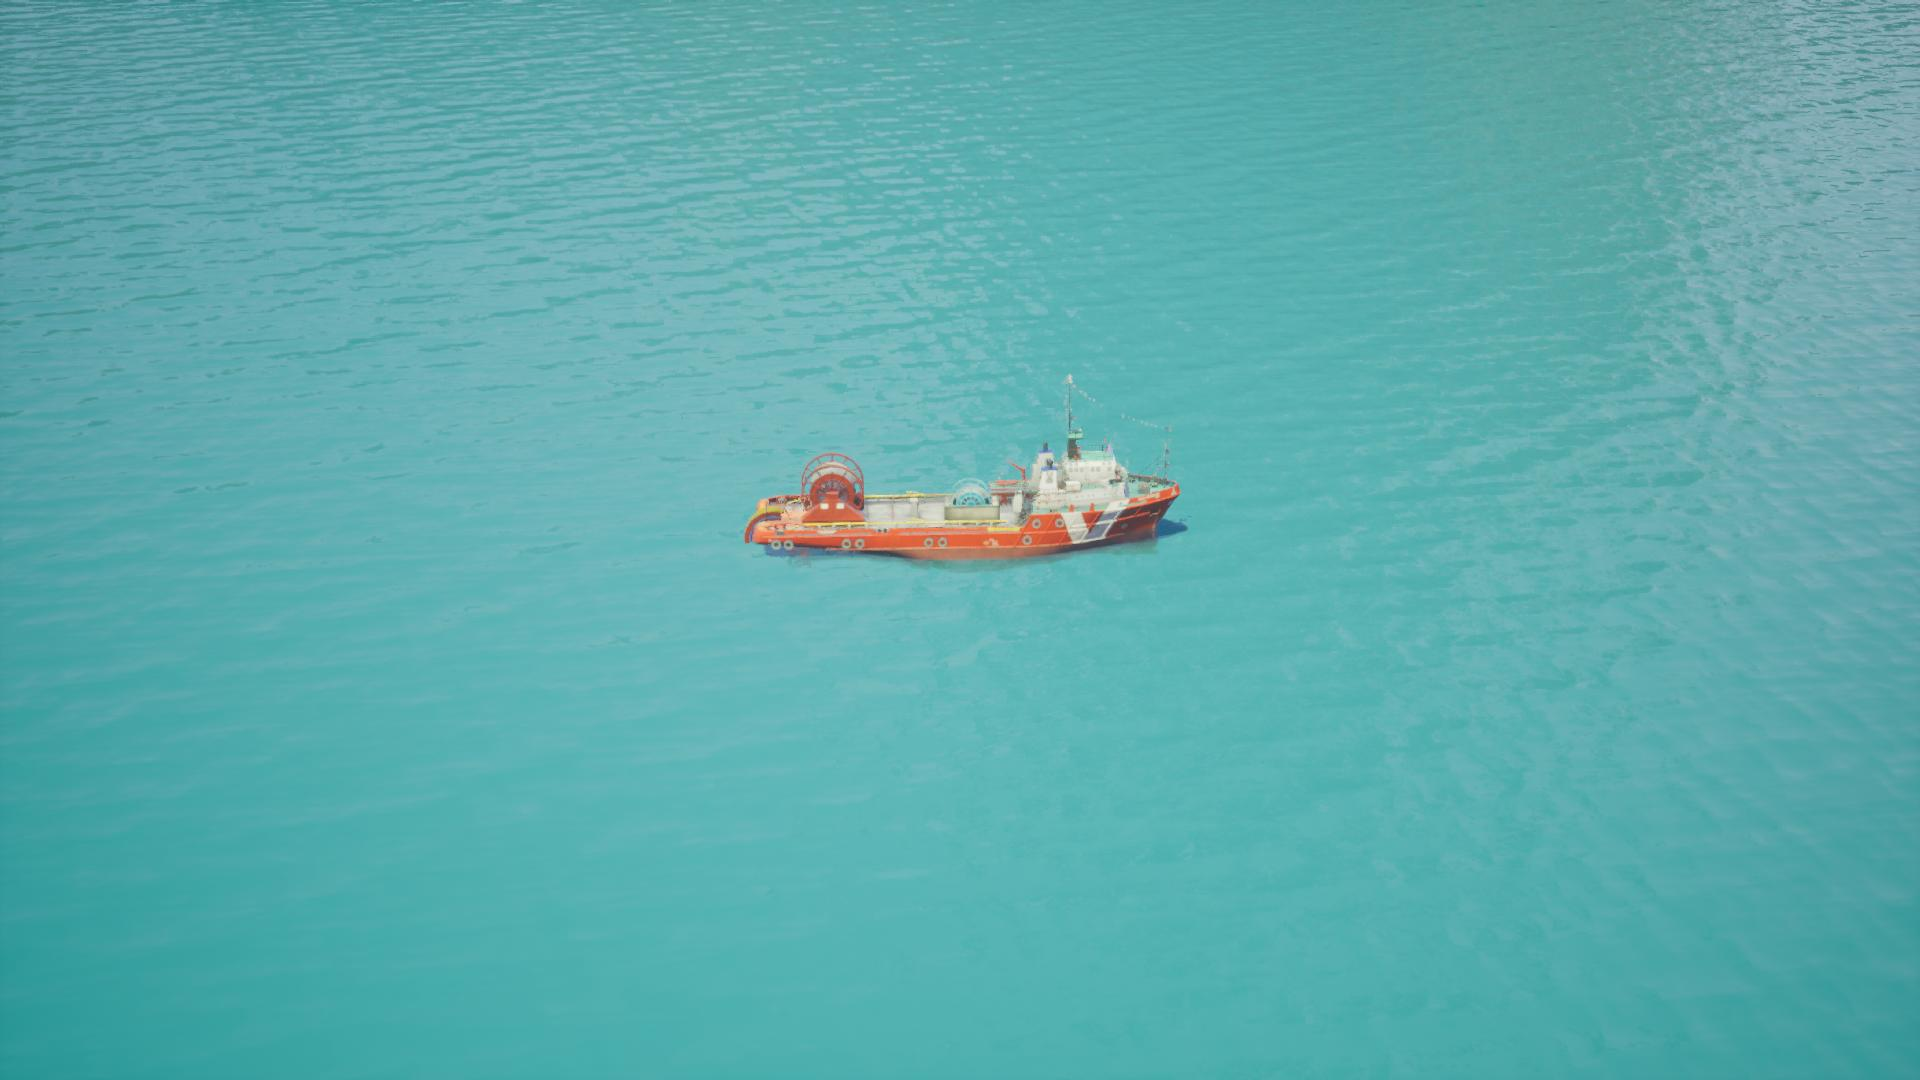Tug Boat: (740, 379, 1189, 572)
